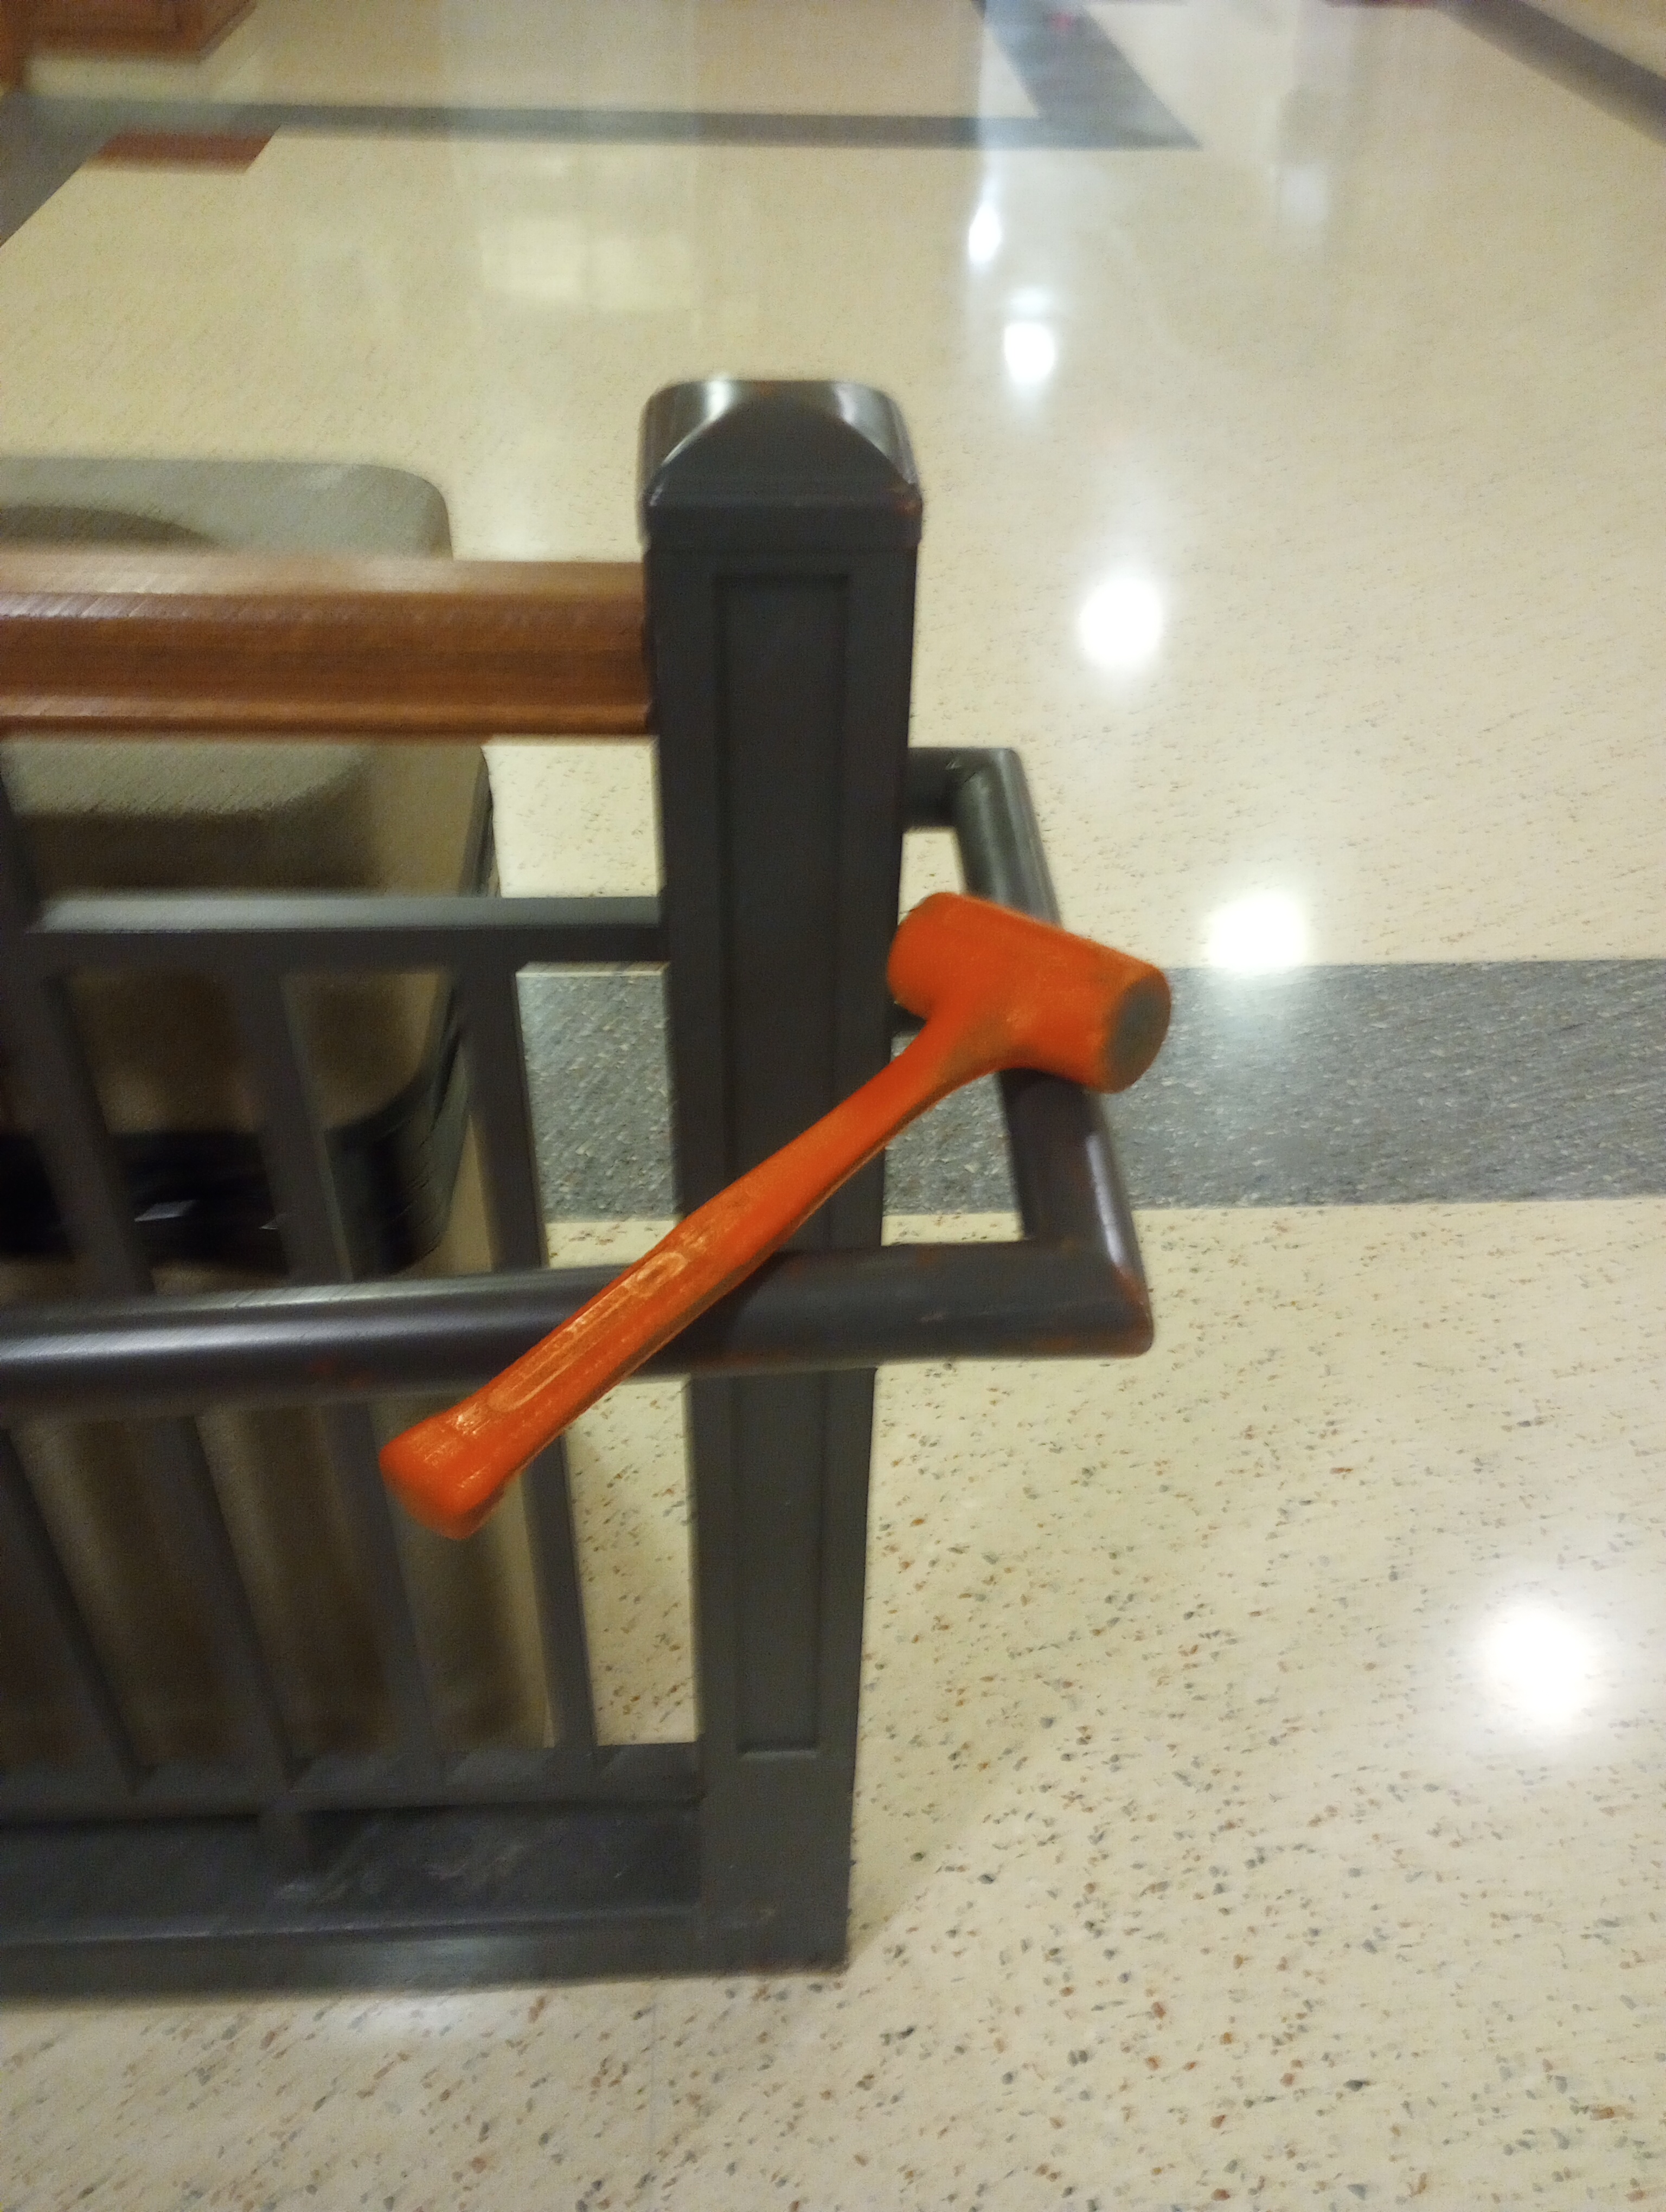bottle: (373, 881, 1176, 1549)
